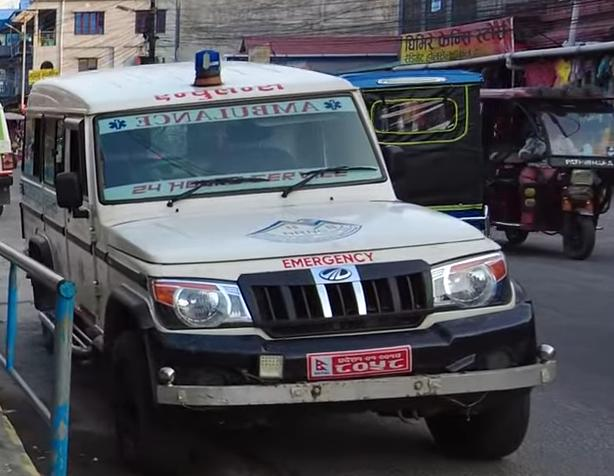ambulance: (7, 47, 559, 464)
e-rickshaw: (484, 82, 614, 262)
